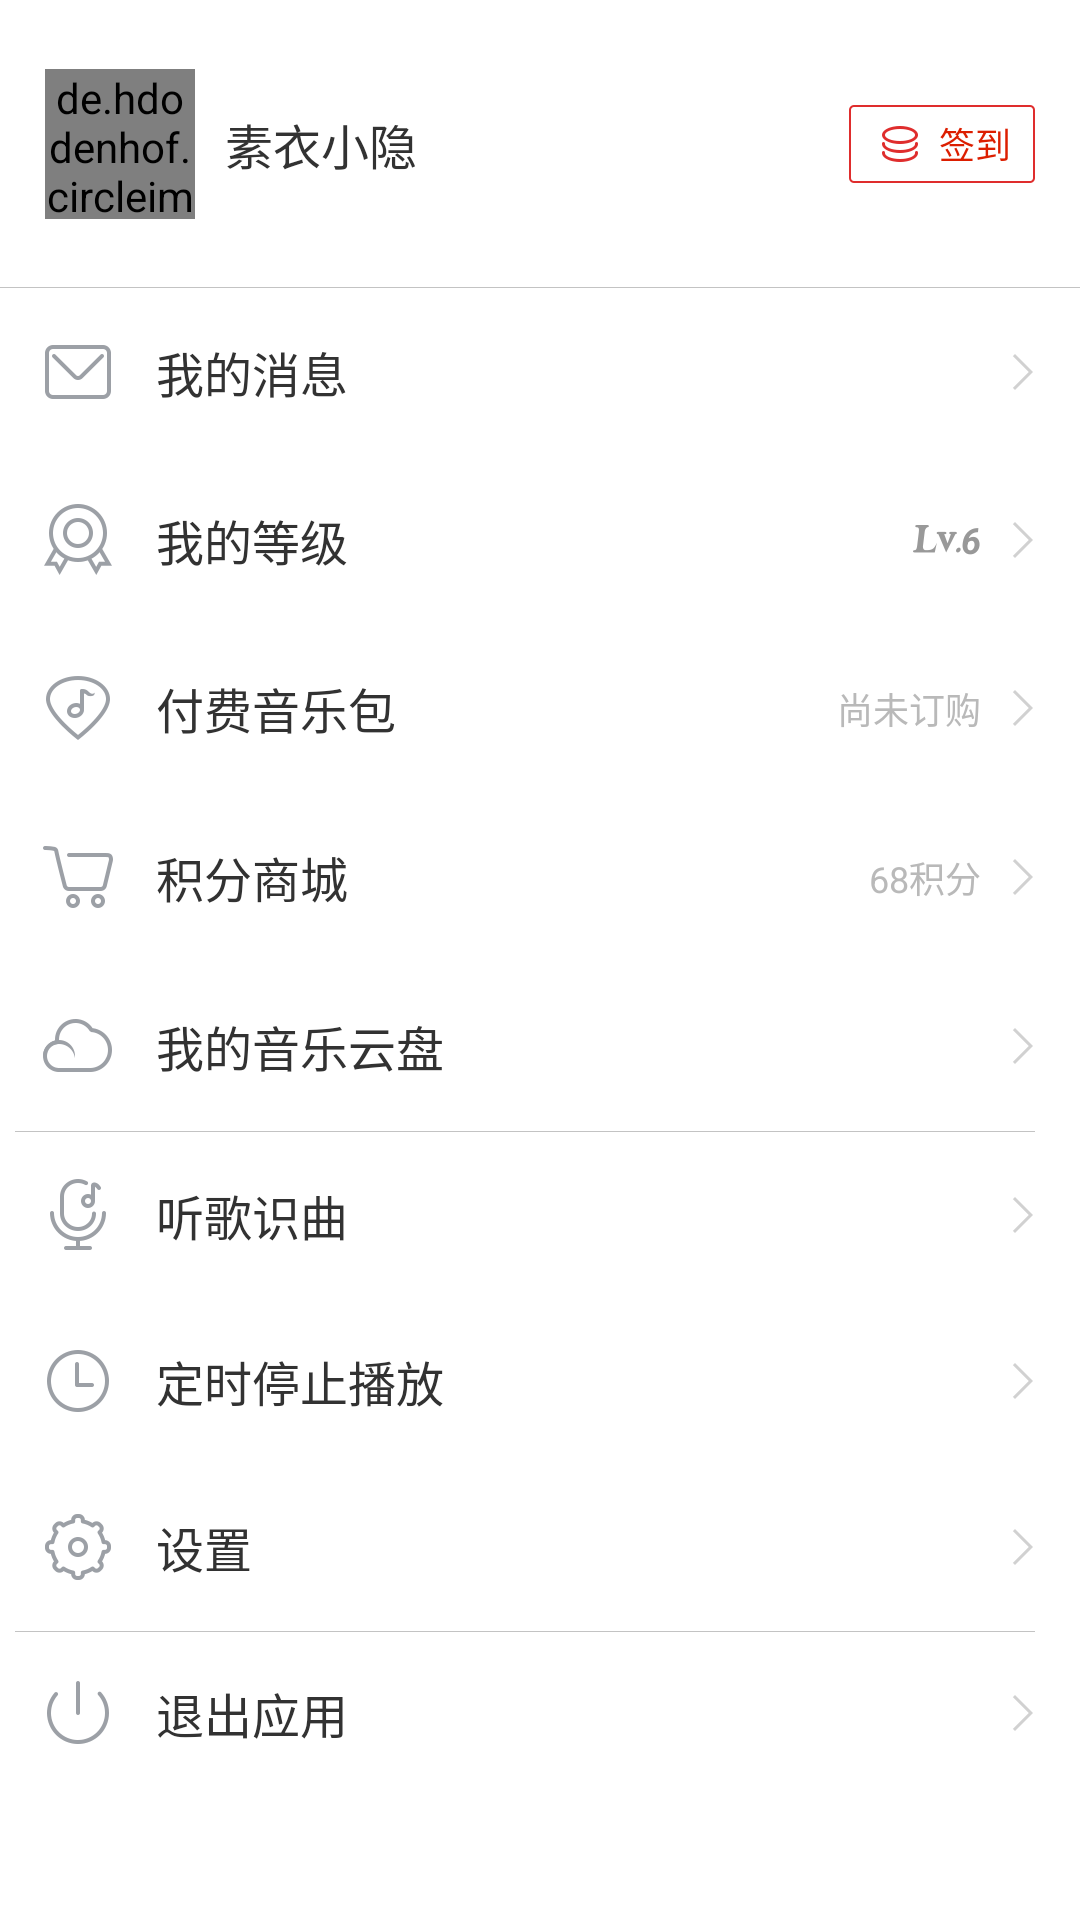

Icon bounding boxes for this 1080 × 1920 phone screenshot, format region(x1, y1, x2, y2):
topmenu cloud: region(43, 1019, 112, 1072)
topmenu exit: region(47, 1681, 109, 1744)
topmenu identify: region(50, 1179, 106, 1250)
topmenu level: region(44, 504, 112, 575)
topmenu msg: region(45, 345, 111, 399)
topmenu set: region(45, 1514, 111, 1580)
topmenu store: region(43, 846, 113, 908)
topmenu time: region(47, 1350, 109, 1412)
